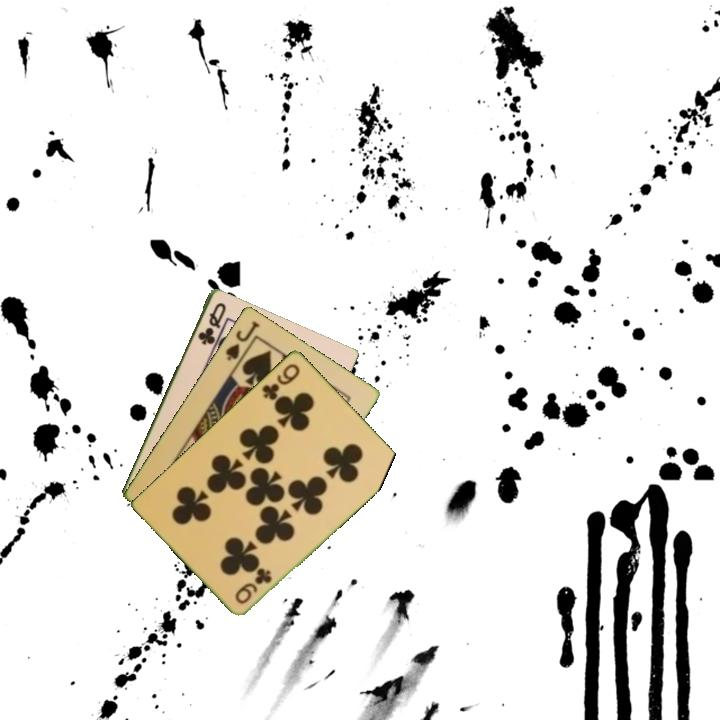9c: (258, 360, 303, 403), (231, 564, 275, 607)
Js: (222, 317, 263, 364)
Qc: (194, 298, 229, 348)
